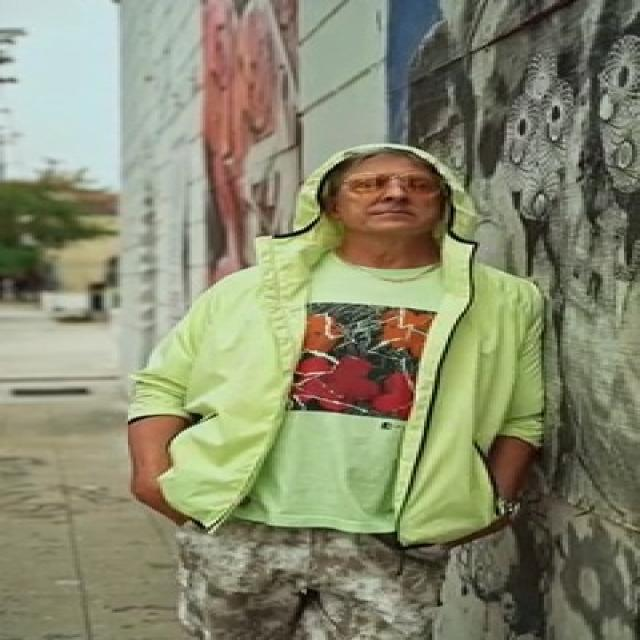Jacket_Wearer: (138, 232, 584, 536)
Person: (127, 133, 621, 640)
